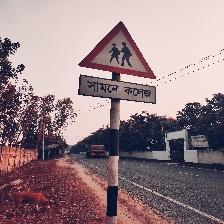College-in-front: (55, 4, 187, 152)
